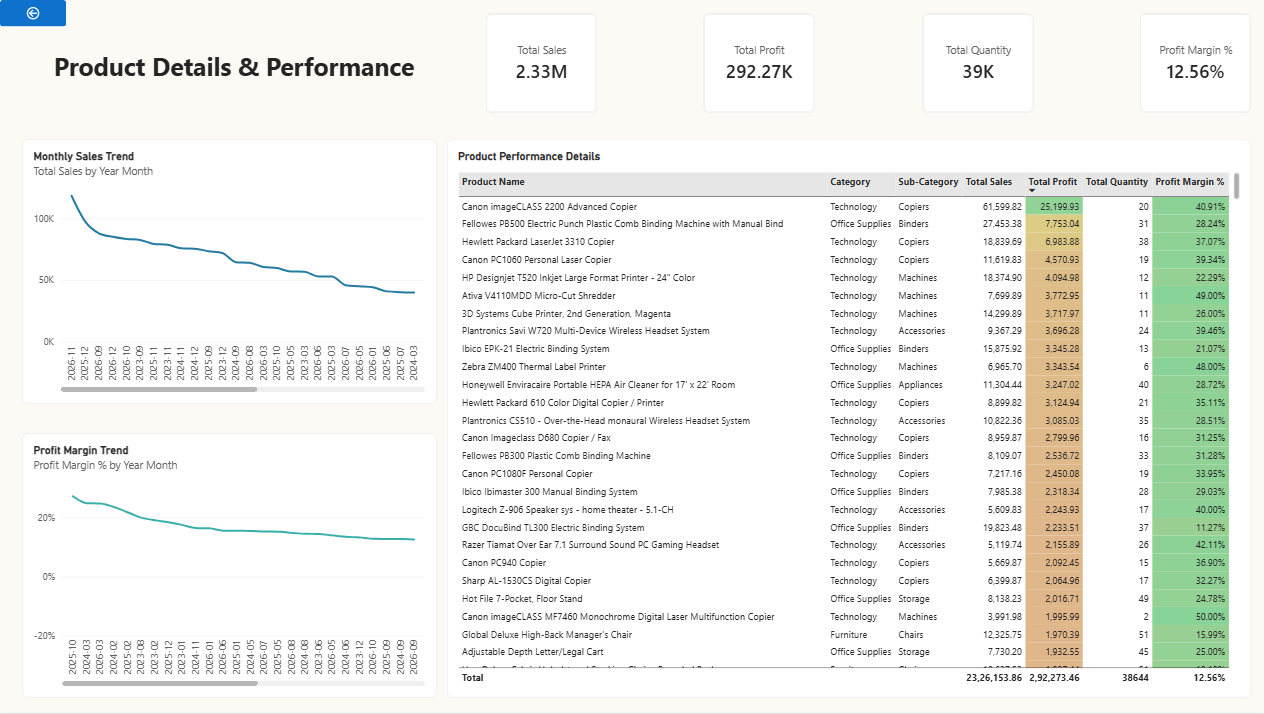

The page's visual inventory and layout, read from the dashboard file:
{"tool":"powerbi","page":{"name":"Product Details","canvas":[1920,1080],"ordinal":4},"visuals":[{"type":"actionButton","box":[0,0,100,40],"z":0},{"type":"cardVisual","fields":{"Data":["Orders.Total Sales"]},"box":[735.9,20.4,168.1,150],"z":1000},{"type":"cardVisual","fields":{"Data":["Orders.Total Profit"]},"box":[1066.1,20.4,168,150],"z":2000},{"type":"cardVisual","fields":{"Data":["Orders.Total Quantity"]},"box":[1396.1,20.4,168,150],"z":3000},{"type":"cardVisual","fields":{"Data":["Orders.Profit Margin %"]},"box":[1726.2,20.4,168,150],"z":4000},{"type":"lineChart","title":"Monthly Sales Trend","fields":{"Y":["Orders.Total Sales"],"Category":["DateTable.Year Month"]},"box":[34.1,211.2,626.9,399.8],"z":5000},{"type":"lineChart","title":"Profit Margin Trend","fields":{"Category":["DateTable.Year Month"],"Y":["Orders.Profit Margin %"]},"box":[34.1,656.4,626.9,399.8],"z":6000},{"type":"tableEx","title":"Product Performance Details","fields":{"Values":["Orders.Product Name","Orders.Category","Orders.Sub-Category","Orders.Total Sales","Orders.Total Profit","Orders.Total Quantity","Orders.Profit Margin %"]},"box":[676.8,211.2,1217.4,844.9],"z":7000},{"type":"textbox","box":[31.8,56.8,645.1,93.1],"z":8000},{"type":"actionButton","box":[0,0,100,40],"z":9000}]}

Visuals, with their boxes in screenshot pixels (x1, y1, x2, y2), scaled from the page's 1920x1080 canvas onto the 1264x714 screenshot:
actionButton: left=0, top=0, right=66, bottom=26
cardVisual - Orders.Total Sales: left=484, top=13, right=595, bottom=113
cardVisual - Orders.Total Profit: left=702, top=13, right=812, bottom=113
cardVisual - Orders.Total Quantity: left=919, top=13, right=1030, bottom=113
cardVisual - Orders.Profit Margin %: left=1136, top=13, right=1247, bottom=113
"Monthly Sales Trend" lineChart: left=22, top=140, right=435, bottom=404
"Profit Margin Trend" lineChart: left=22, top=434, right=435, bottom=698
"Product Performance Details" tableEx: left=446, top=140, right=1247, bottom=698
textbox: left=21, top=38, right=446, bottom=99
actionButton: left=0, top=0, right=66, bottom=26
